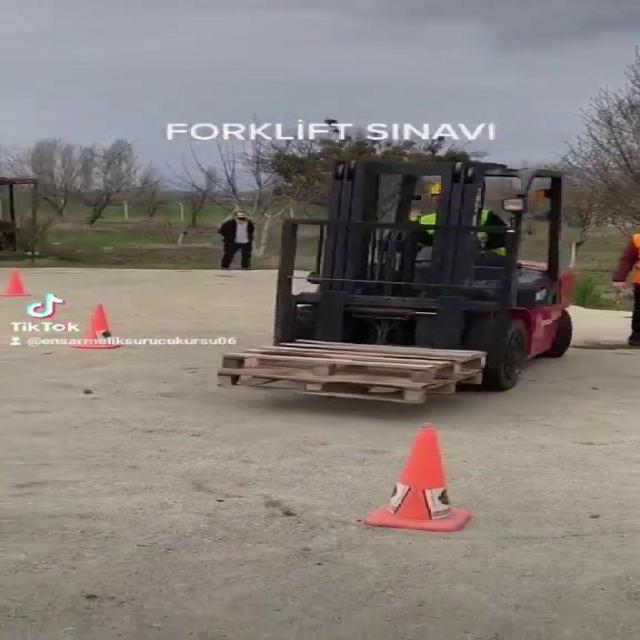forklift: (277, 158, 571, 394)
pallets: (193, 332, 511, 410)
person: (393, 175, 517, 267), (189, 201, 265, 278), (606, 219, 640, 362)
